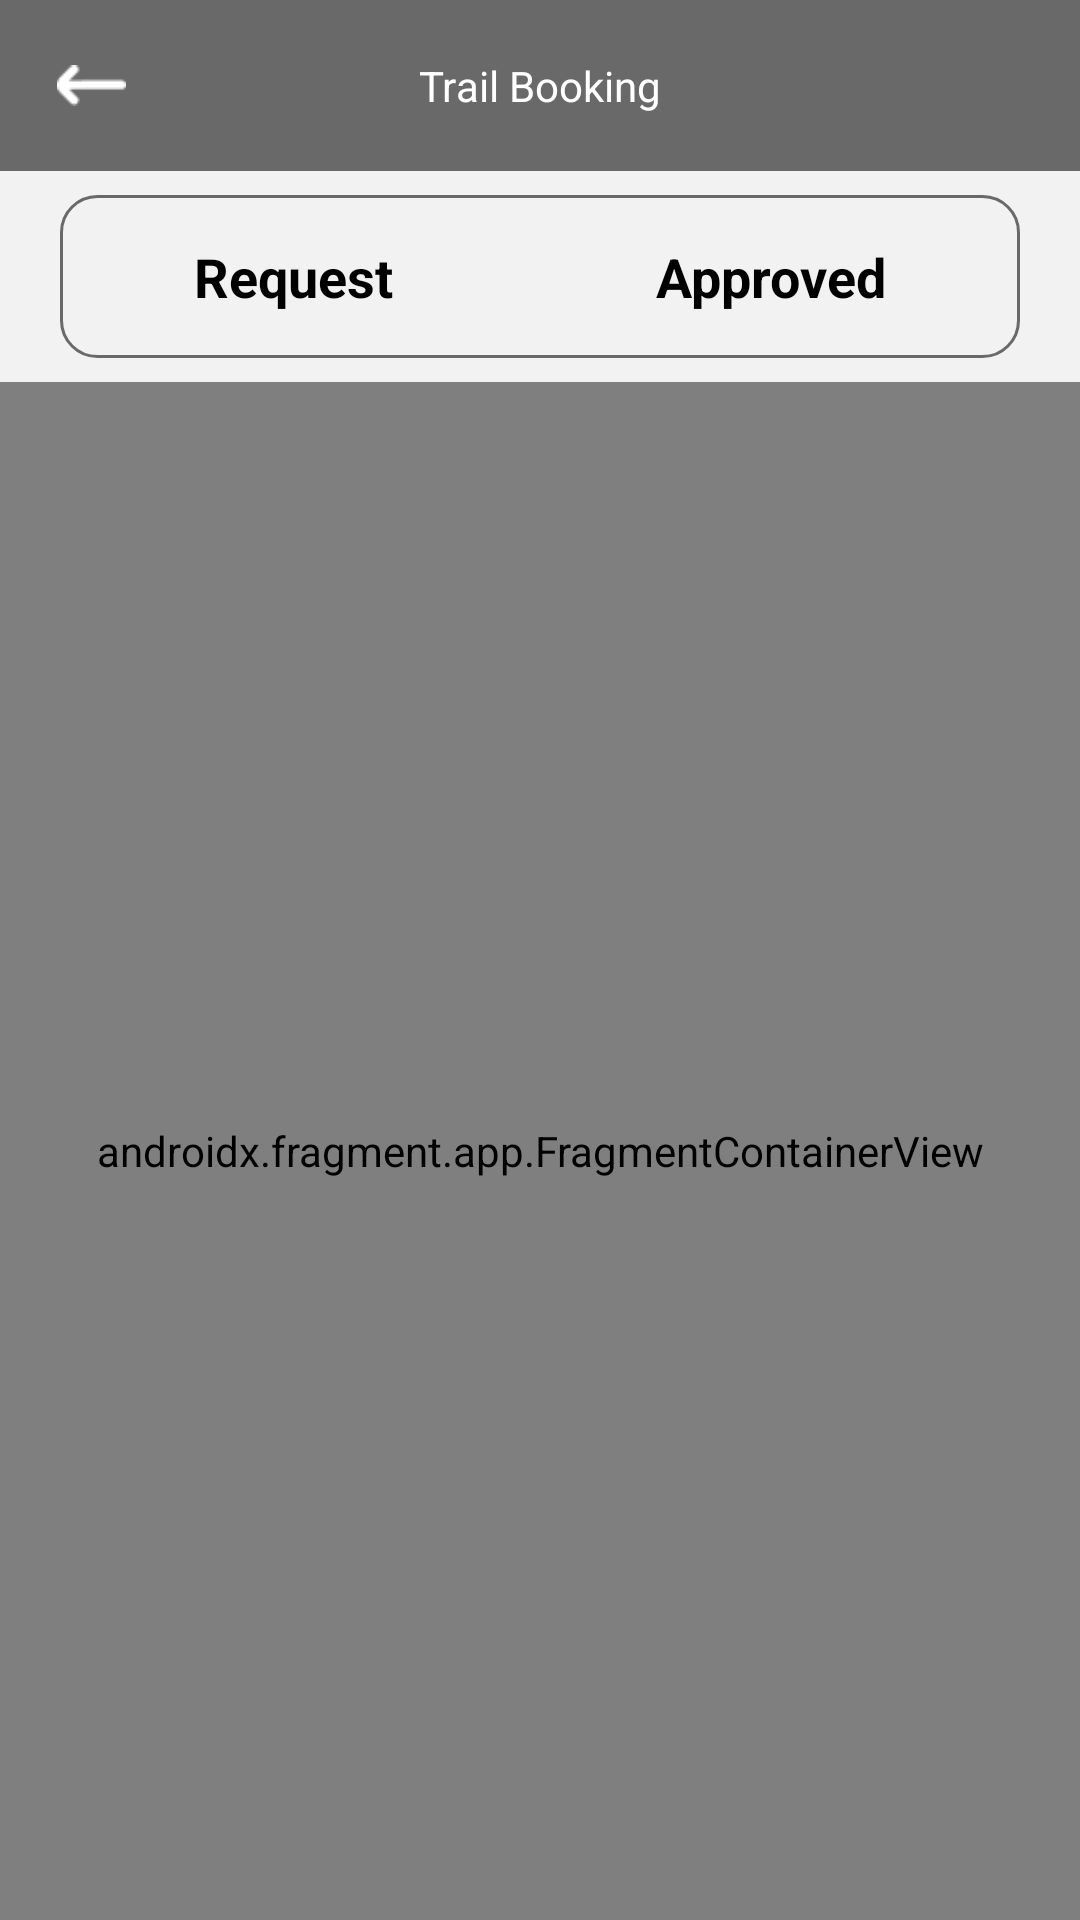

Icons on this 1080w x 1920h Android screen, each with the point to tap as point (x, y):
arrow left: point (91, 85)
